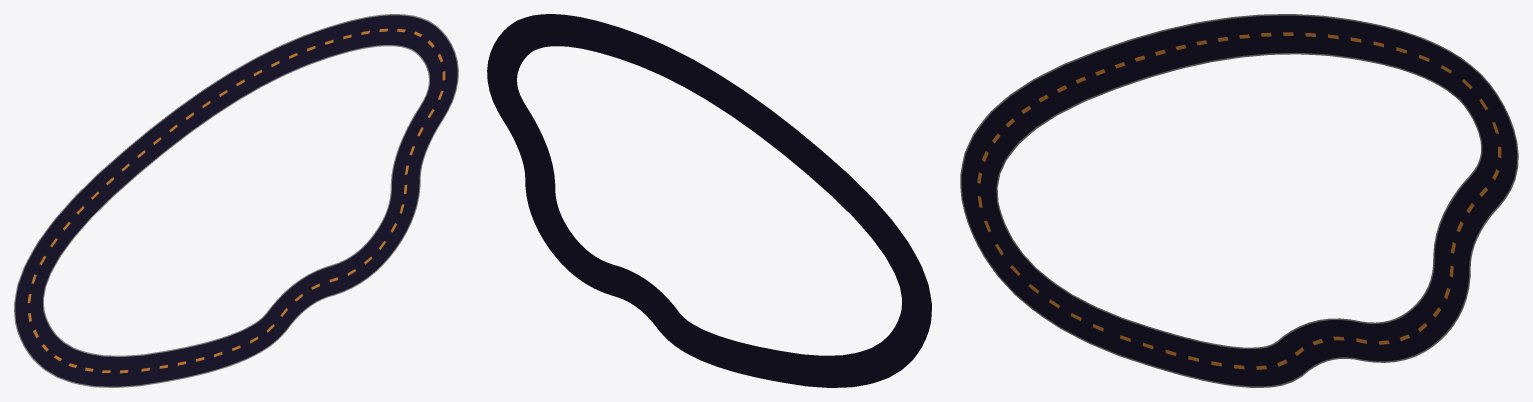
File: track.obj
3 renders of one model, left to right at view 1: azimuth 30°, elevation 25°; view 2: azimuth 150°, elevation 25°; view 3: azimuth 330°, elevation 25°, orthographic. The views are drawn at different scales.
Size of the model in its own units: 15.91 by 10.87 by 0.002.
3 materials, 3 textured.
